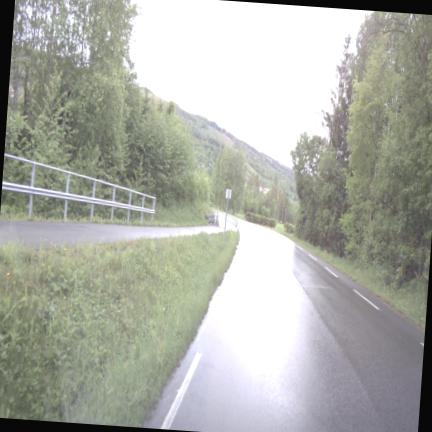Road: (144, 222, 424, 431)
